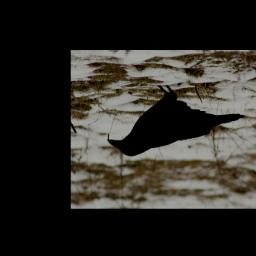Crow: (103, 83, 244, 160)
